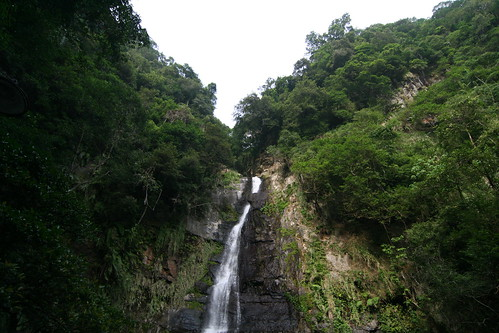wufengciWaterfall: (180, 169, 294, 333)
